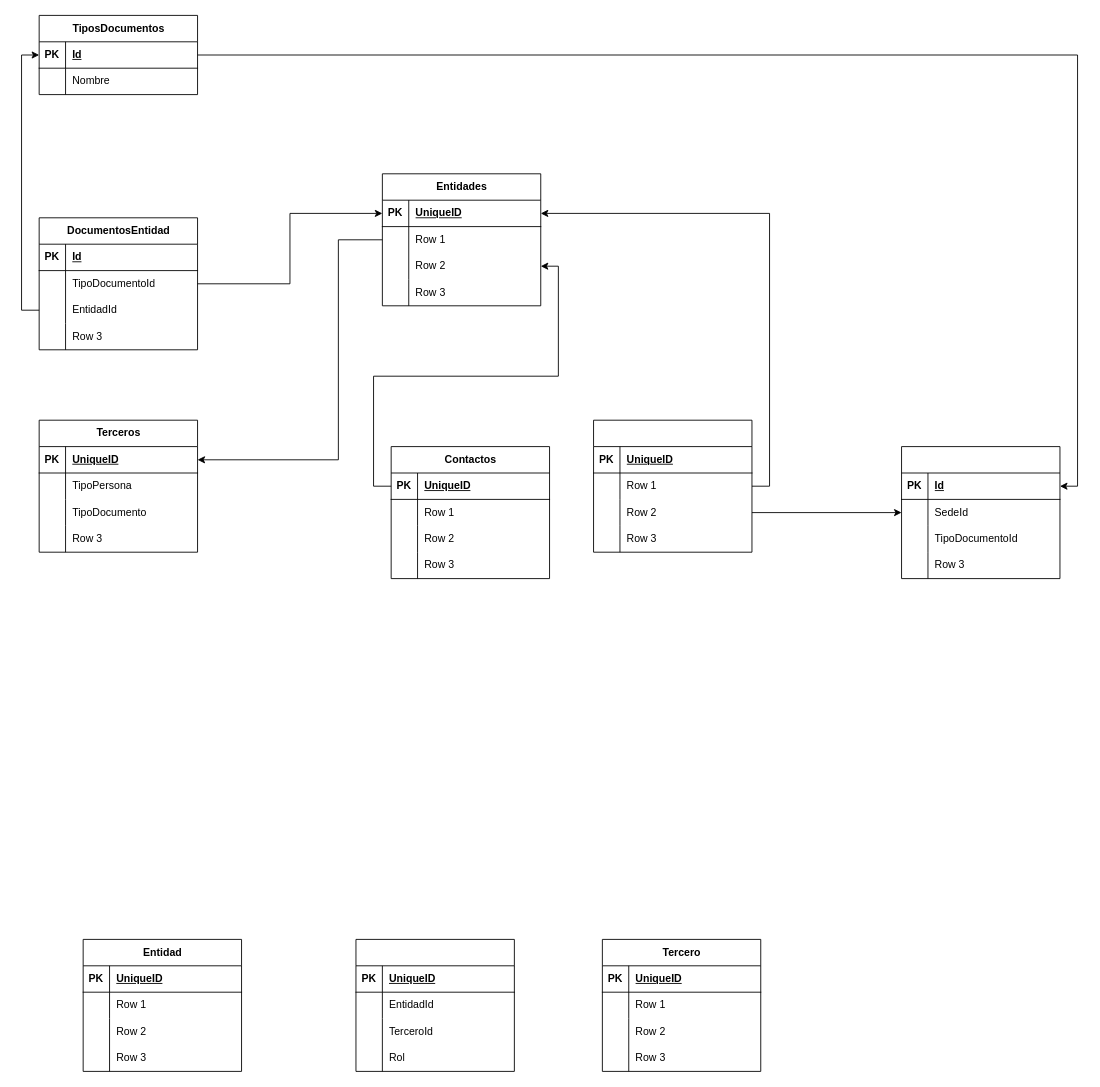
The diagram is 1100 pixels wide and 1087 high, and some of its shapes have lost their labels. The shapes that lost their labels are listed below. From the top down, each one's box as (x1, y1, x2, y2) in pixels, then its label:
(593, 419, 752, 552): Sedes
(901, 446, 1060, 579): DocumentosSede
(355, 939, 514, 1071): TerceroEntidad
